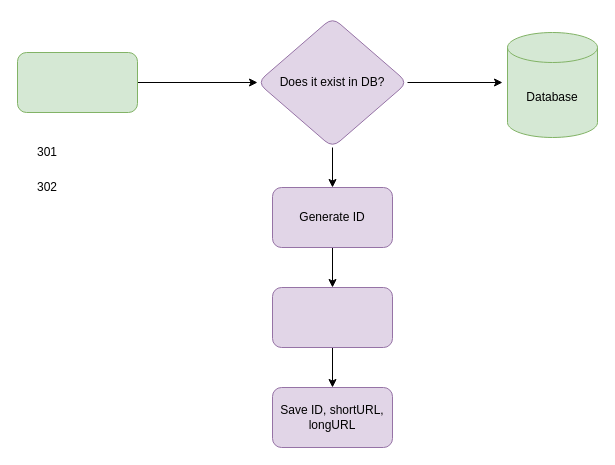
This 615x465 diagram has some shape labels left out. The shapes that lost their labels are listed below. From the top down, each one's centre as x and y in pixels, then its label:
At point 77,82: "longURL".
At point 332,317: "Convert ID to shortURL".
